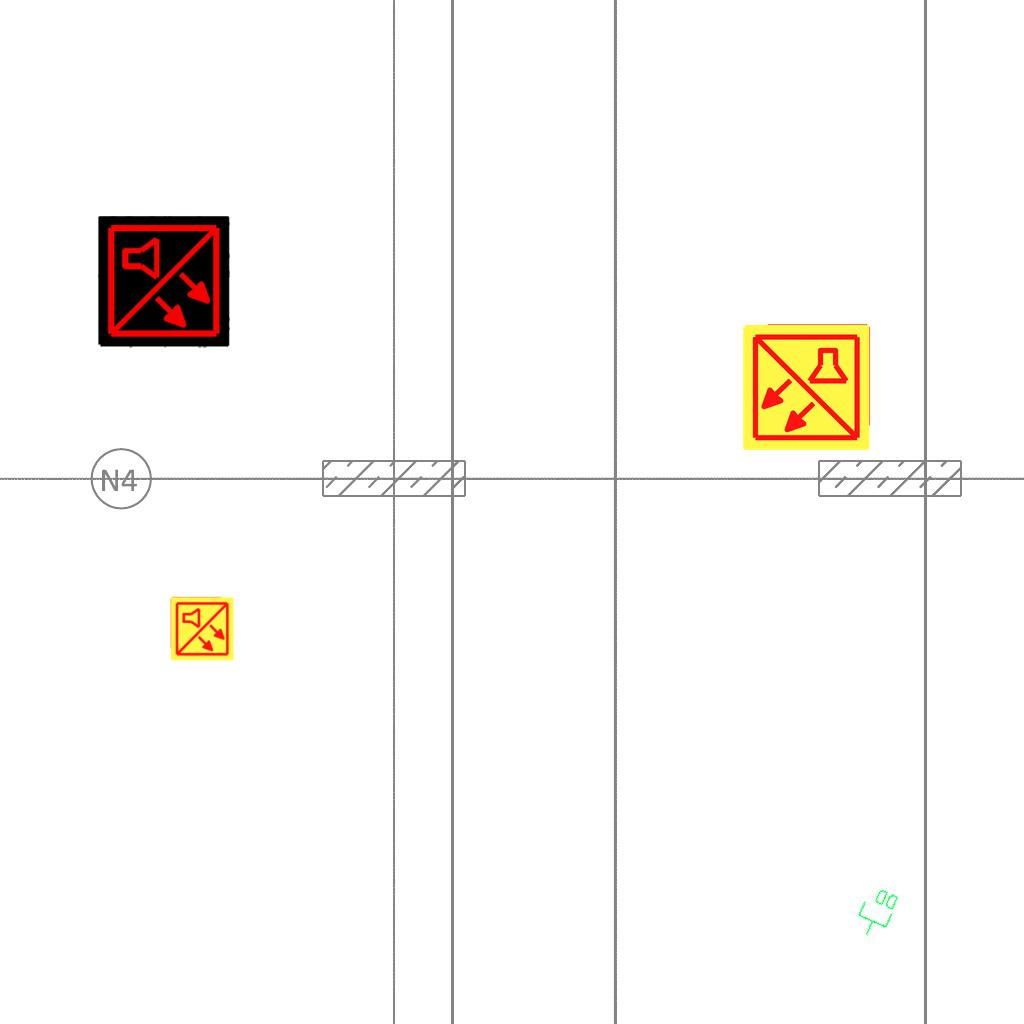Datenanschluss_zweifach: (850, 882, 903, 944)
OKW_Multisensormelder_(Kombination_optischer_Rauch-Kahlenmonoxid_Waerme-Melder): (740, 321, 872, 453), (98, 216, 230, 348), (169, 596, 235, 662)
